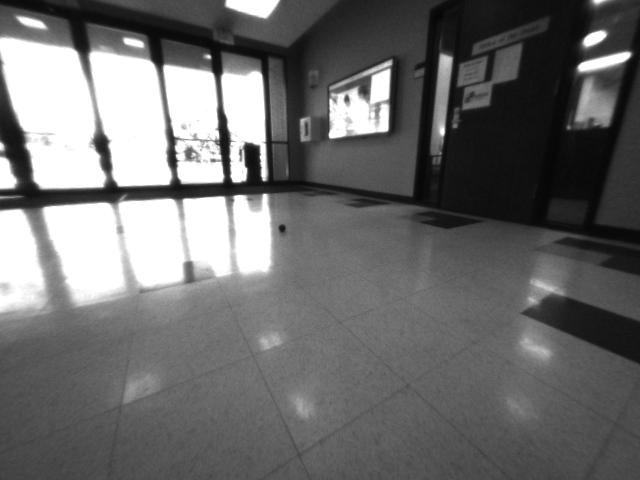dogtoy: (273, 216, 298, 244)
